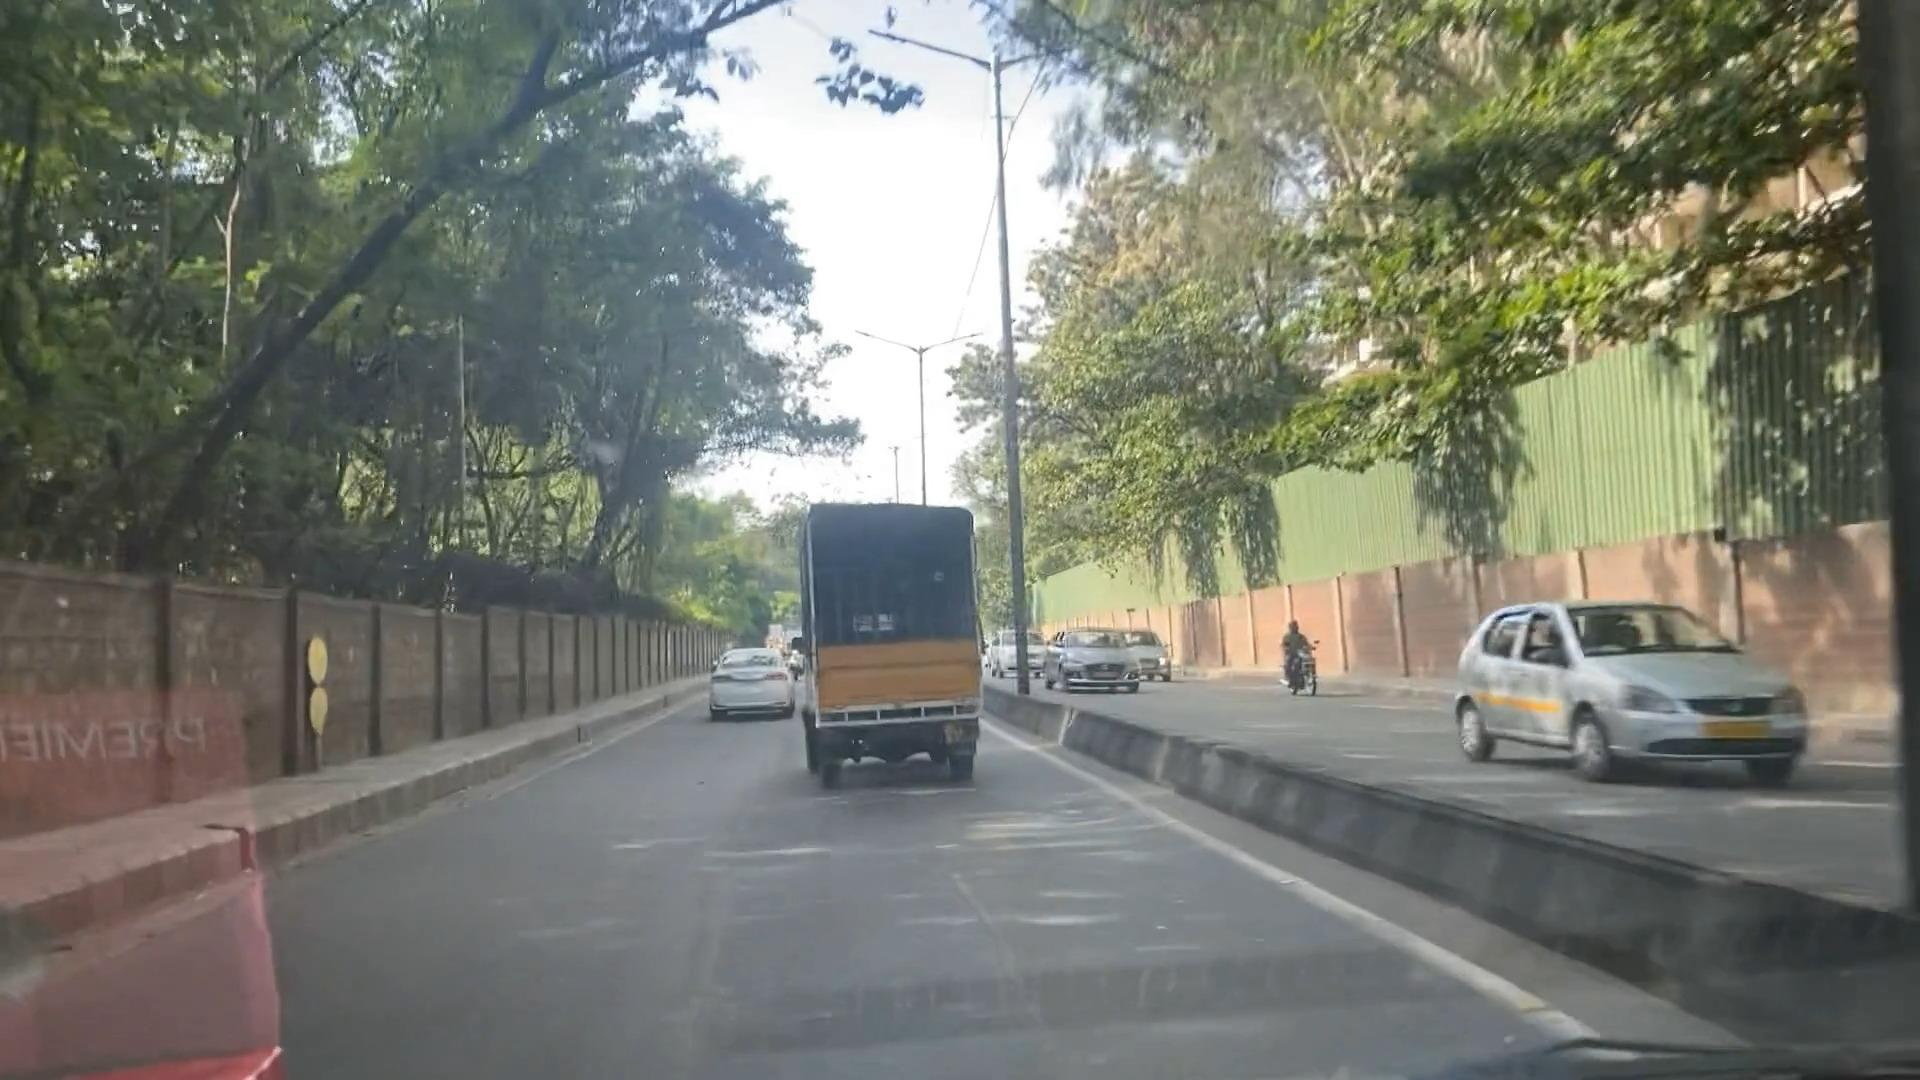HMV: (779, 475, 985, 793)
